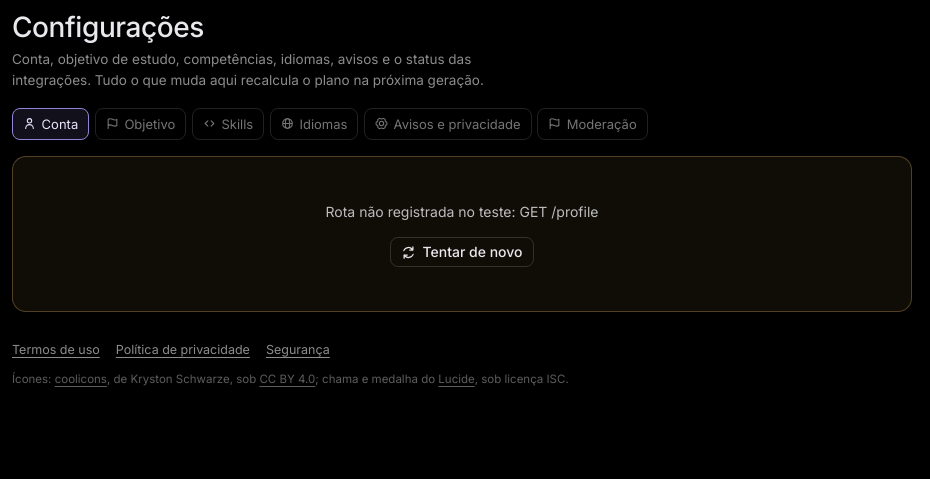
Test: a aba Moderação em Configurações só aparece para a conta moderadora
Expected: the button "Conta" is shown, [12, 108, 89, 140]
Click the button "Moderação": (592, 124) [537, 108, 648, 140]
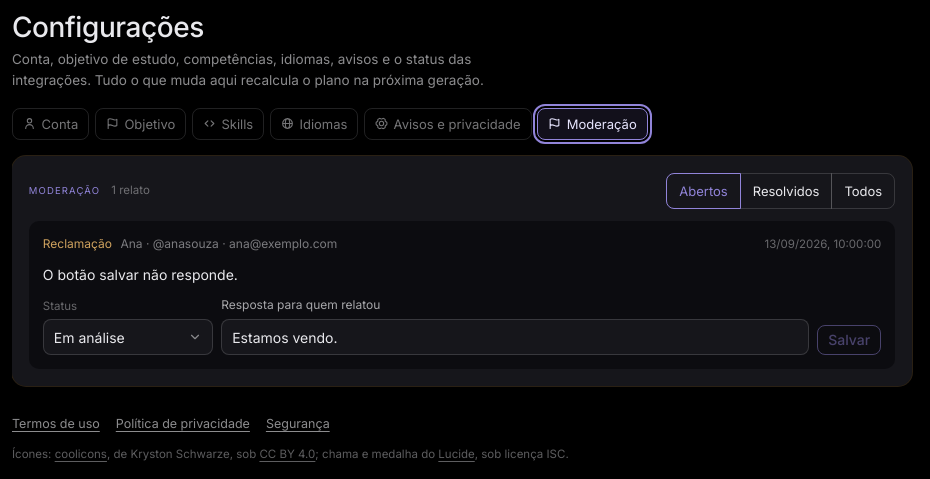
Now the text "Ana · @anasouza · ana@exemplo.com" is shown, box [120, 235, 337, 254]
